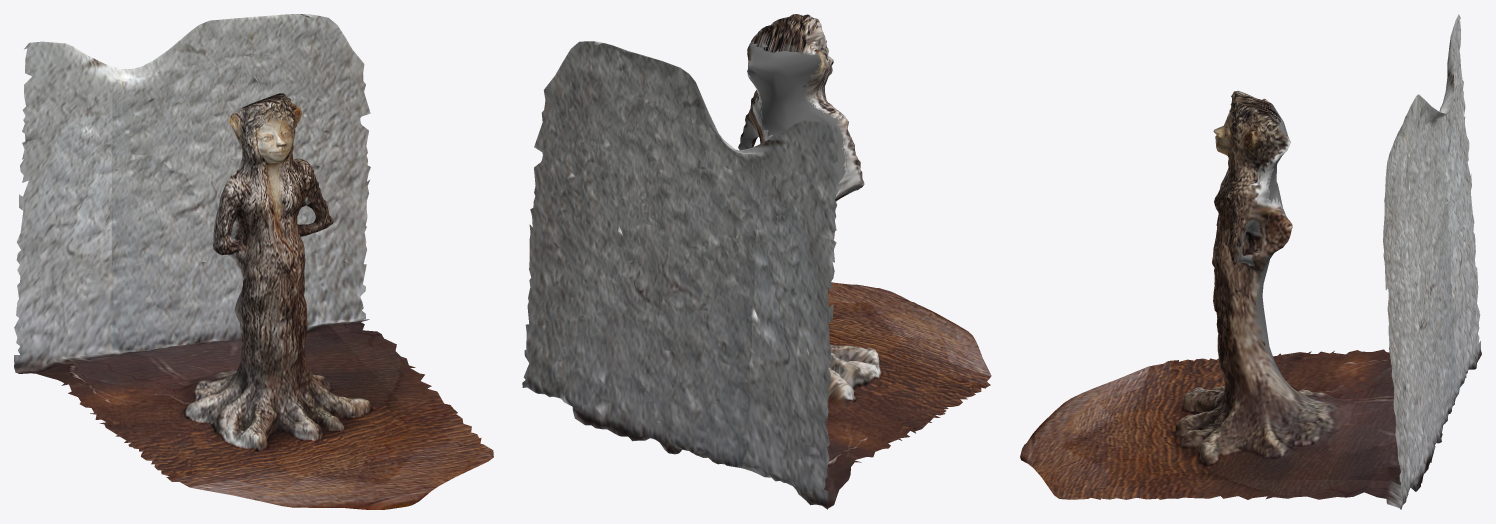
The model's file is boomVrouw.obj.
3 renders of one model, left to right at view 1: azimuth 30°, elevation 25°; view 2: azimuth 150°, elevation 25°; view 3: azimuth 270°, elevation 25°, orthographic. The views are drawn at different scales.
Parts seen in each view (by area): view 1: default; view 2: default; view 3: default.
Boxes of the visible parts, x1,y1,x2,y2 form: default: [14, 14, 493, 509]; default: [522, 14, 991, 509]; default: [1020, 14, 1481, 509].
Bounding box in the file's own units: 19.79 × 21 × 24.48.
Materials: 2 (1 with a texture image).
